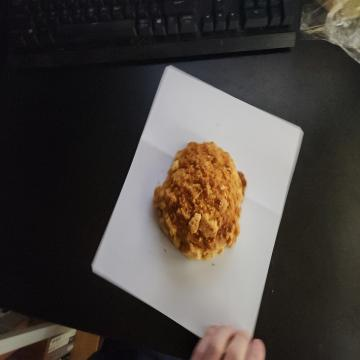soboru_bread: (151, 138, 247, 266)
